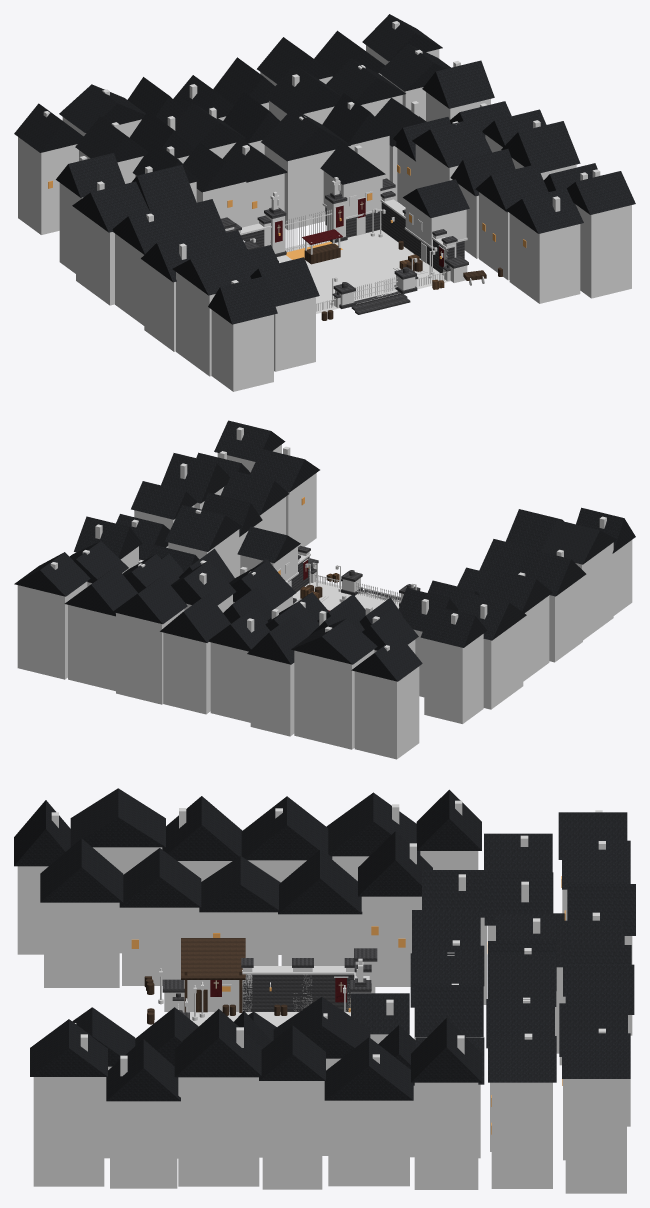
Rendered from town_night_market.fbx.
3 renders of one model, top to bottom at view 1: azimuth 30°, elevation 25°; view 2: azimuth 150°, elevation 25°; view 3: azimuth 270°, elevation 25°, orthographic. The views are drawn at different scales.
Visible parts, largest first — view 1: _MeshInstance3D_4956, _MeshInstance3D_5244, _MeshInstance3D_5269, _MeshInstance3D_5196, _MeshInstance3D_5031, _MeshInstance3D_4989, _MeshInstance3D_5194, _MeshInstance3D_5180, _MeshInstance3D_5173, _MeshInstance3D_5261, _MeshInstance3D_4990, _MeshInstance3D_5236 (+58 smaller); view 2: _MeshInstance3D_5035, _MeshInstance3D_5031, _MeshInstance3D_5175, _MeshInstance3D_5053, _MeshInstance3D_5048, _MeshInstance3D_5050, _MeshInstance3D_5045, _MeshInstance3D_5039, _MeshInstance3D_5041, _MeshInstance3D_5180, _MeshInstance3D_5194, _MeshInstance3D_5190 (+46 smaller); view 3: _MeshInstance3D_5260, _MeshInstance3D_5269, _MeshInstance3D_5252, _MeshInstance3D_5053, _MeshInstance3D_5248, _MeshInstance3D_5256, _MeshInstance3D_5026, _MeshInstance3D_5173, _MeshInstance3D_5265, _MeshInstance3D_5170, _MeshInstance3D_5261, _MeshInstance3D_5195 (+54 smaller).
Boxes of the visible parts, x1,y1,x2,y2 form: _MeshInstance3D_4956: [277, 230, 450, 313]; _MeshInstance3D_5244: [509, 213, 580, 303]; _MeshInstance3D_5269: [575, 204, 631, 298]; _MeshInstance3D_5196: [211, 310, 273, 391]; _MeshInstance3D_5031: [18, 137, 78, 234]; _MeshInstance3D_4989: [264, 145, 334, 230]; _MeshInstance3D_5194: [176, 272, 215, 376]; _MeshInstance3D_5180: [76, 209, 114, 305]; _MeshInstance3D_5173: [274, 297, 315, 371]; _MeshInstance3D_5261: [501, 121, 580, 172]; _MeshInstance3D_4990: [261, 108, 350, 161]; _MeshInstance3D_5236: [412, 118, 491, 167]; _MeshInstance3D_5035: [294, 649, 374, 749]; _MeshInstance3D_5031: [354, 666, 419, 759]; _MeshInstance3D_5175: [424, 634, 483, 723]; _MeshInstance3D_5053: [17, 581, 87, 679]; _MeshInstance3D_5048: [116, 609, 184, 704]; _MeshInstance3D_5050: [68, 605, 115, 691]; _MeshInstance3D_5045: [163, 632, 210, 714]; _MeshInstance3D_5039: [250, 655, 294, 736]; _MeshInstance3D_5041: [210, 642, 250, 722]; _MeshInstance3D_5180: [483, 618, 523, 709]; _MeshInstance3D_5194: [575, 542, 613, 640]; _MeshInstance3D_5190: [549, 577, 582, 662]; _MeshInstance3D_5260: [178, 1077, 259, 1186]; _MeshInstance3D_5269: [33, 1077, 104, 1186]; _MeshInstance3D_5252: [328, 1100, 409, 1186]; _MeshInstance3D_5053: [565, 1079, 626, 1193]; _MeshInstance3D_5248: [414, 1082, 478, 1189]; _MeshInstance3D_5256: [262, 1081, 322, 1189]; _MeshInstance3D_5026: [491, 1082, 552, 1188]; _MeshInstance3D_5173: [44, 902, 119, 987]; _MeshInstance3D_5265: [110, 1101, 177, 1188]; _MeshInstance3D_5170: [122, 907, 197, 985]; _MeshInstance3D_5261: [174, 1009, 262, 1077]; _MeshInstance3D_5195: [70, 788, 165, 847].
Size of what is drawn, in the model's own units: 5223 by 1414 by 5071.
15 materials, 5 textured.
